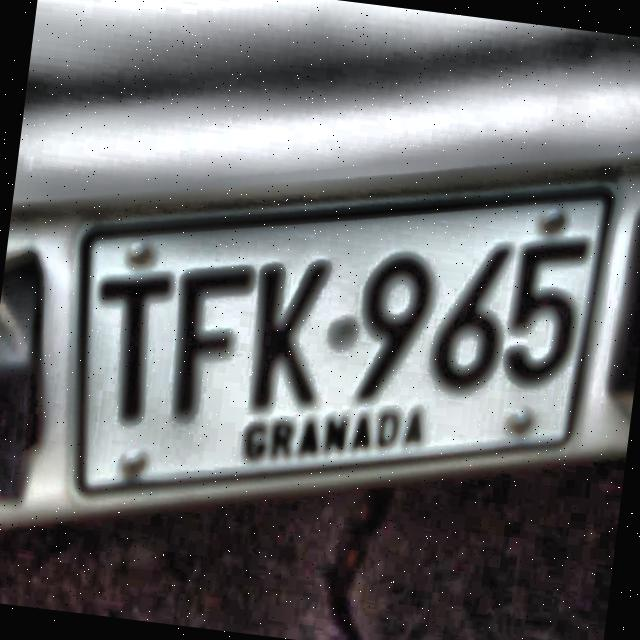plate: (69, 179, 625, 512)
